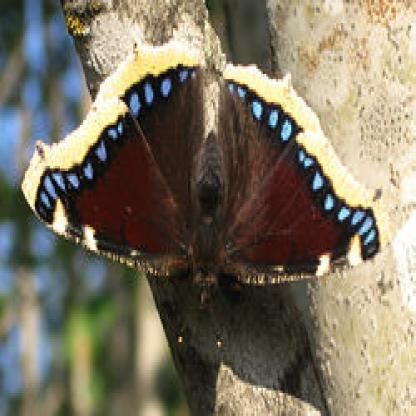Mourning Cloak: (19, 29, 408, 341)
